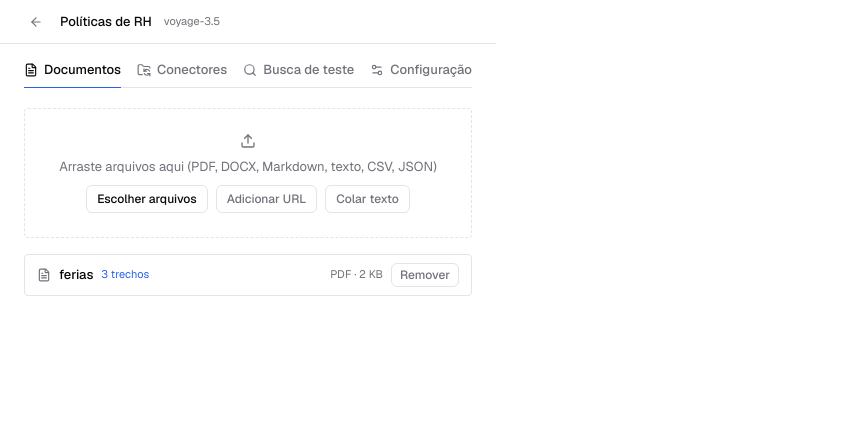
Test case: KnowledgeBasePage › compara a estratégia com a busca simples lado a lado
Click the tab "Busca de teste".
click(299, 70)  # box 243,52 -> 354,88
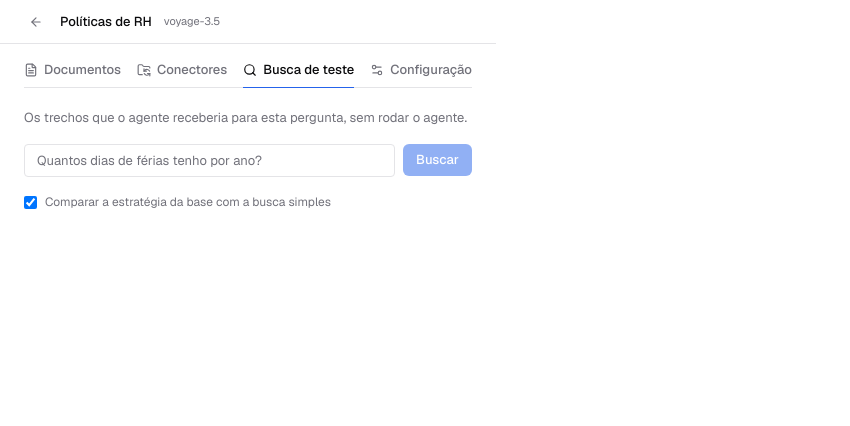
Result: the checkbox labelled "Comparar a estratégia da base com a busca simples" is checked at 24,196 -> 37,208
Type "posso devolver?" into the field named "Pergunta".
click(210, 160); type("posso devolver?")  # box 24,144 -> 395,177
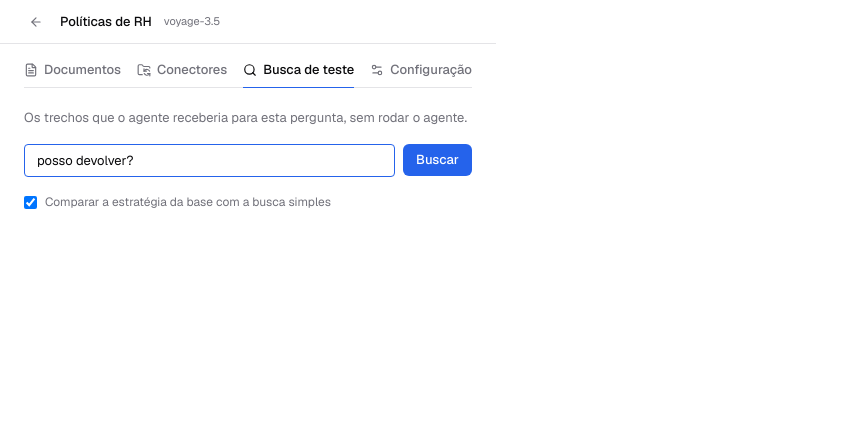
Click the button "Buscar".
click(438, 160)  # box 403,144 -> 472,176
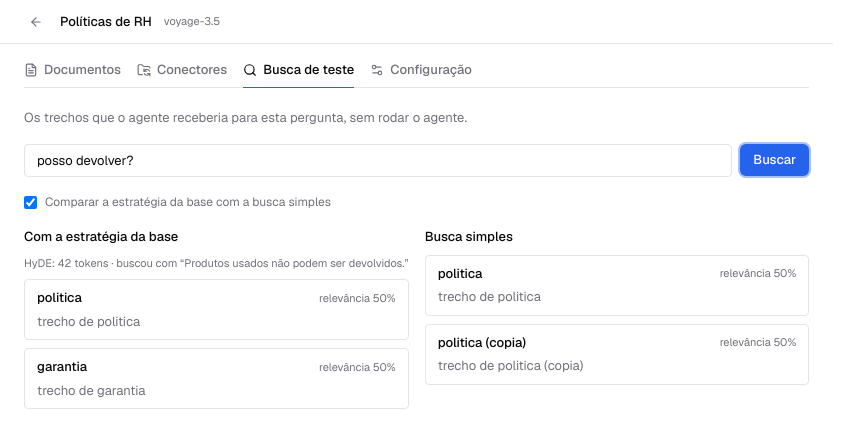
Result: the text "trecho de garantia" is shown at 37,382 -> 145,398
Result: the text "HyDE: 42 tokens" is shown at 24,254 -> 409,271
Result: the text "trecho de politica (copia)" is shown at 438,357 -> 583,374
